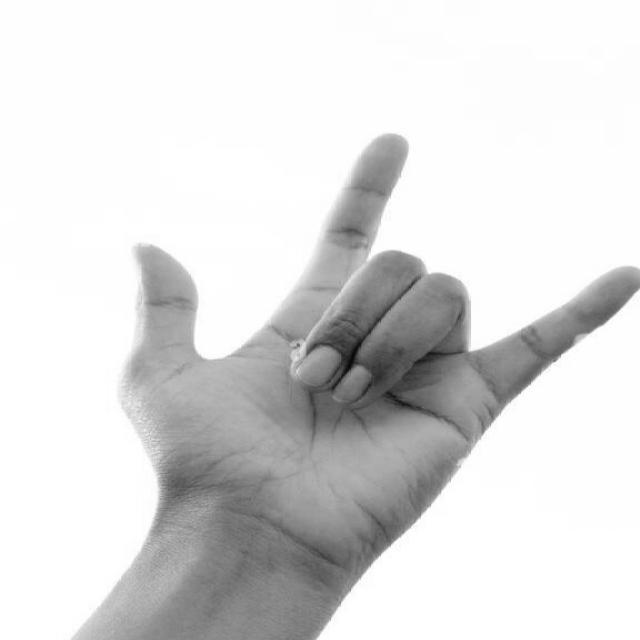i love you: (104, 122, 640, 604)
